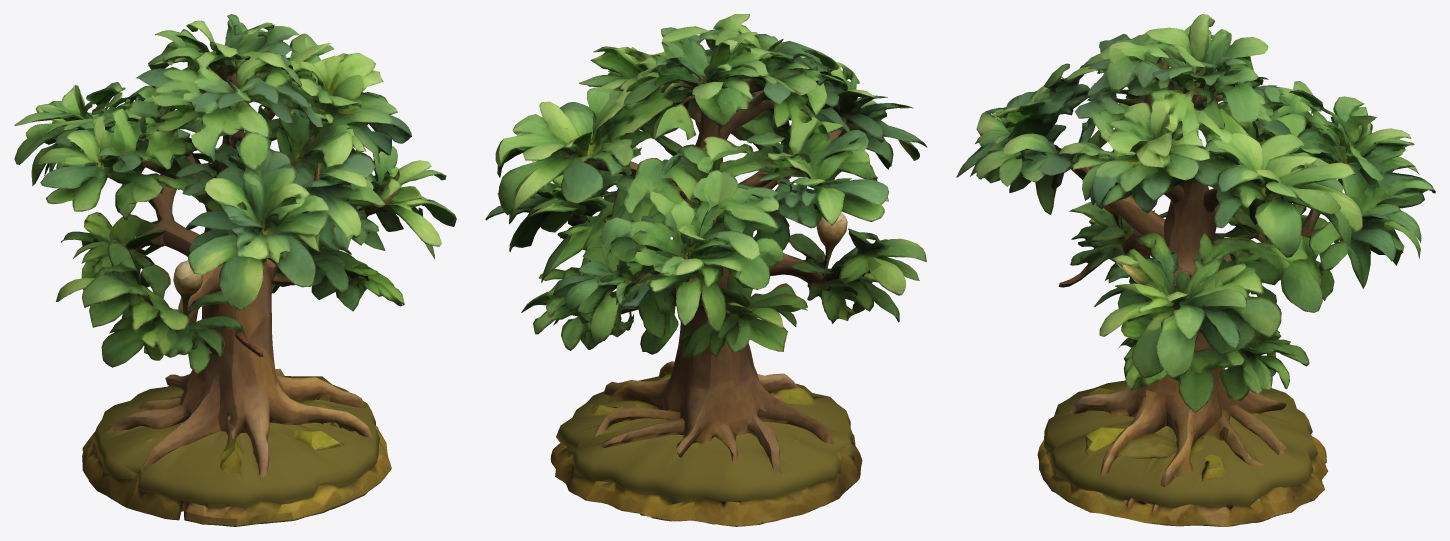
The picture shows the model from 3 angles, left to right: view 1: azimuth 30°, elevation 25°; view 2: azimuth 150°, elevation 25°; view 3: azimuth 270°, elevation 25°; orthographic projection.
Visible parts, largest first — view 1: world; view 2: world; view 3: world.
Part boxes in pixels (<box>): world: <box>14,14,456,526</box>; world: <box>485,14,927,526</box>; world: <box>956,14,1435,526</box>.
Bounding box in the file's own units: 11.3 × 12 × 12.02.
Materials: 1 (1 with a texture image).
